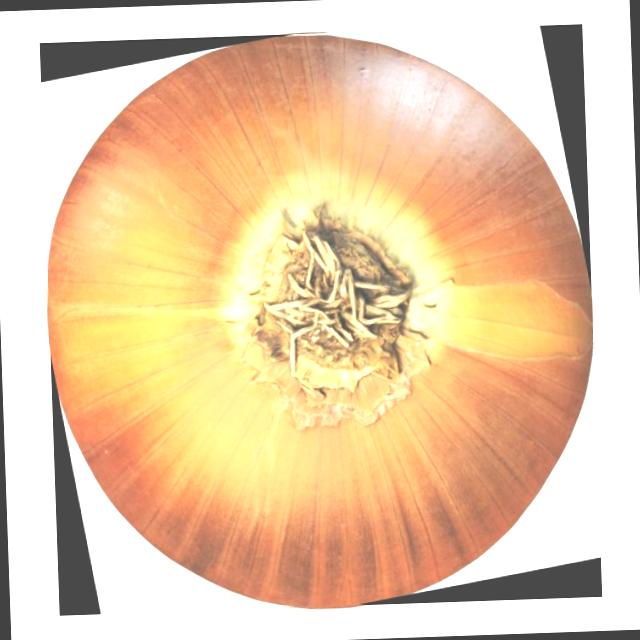healthy: (48, 35, 593, 605)
